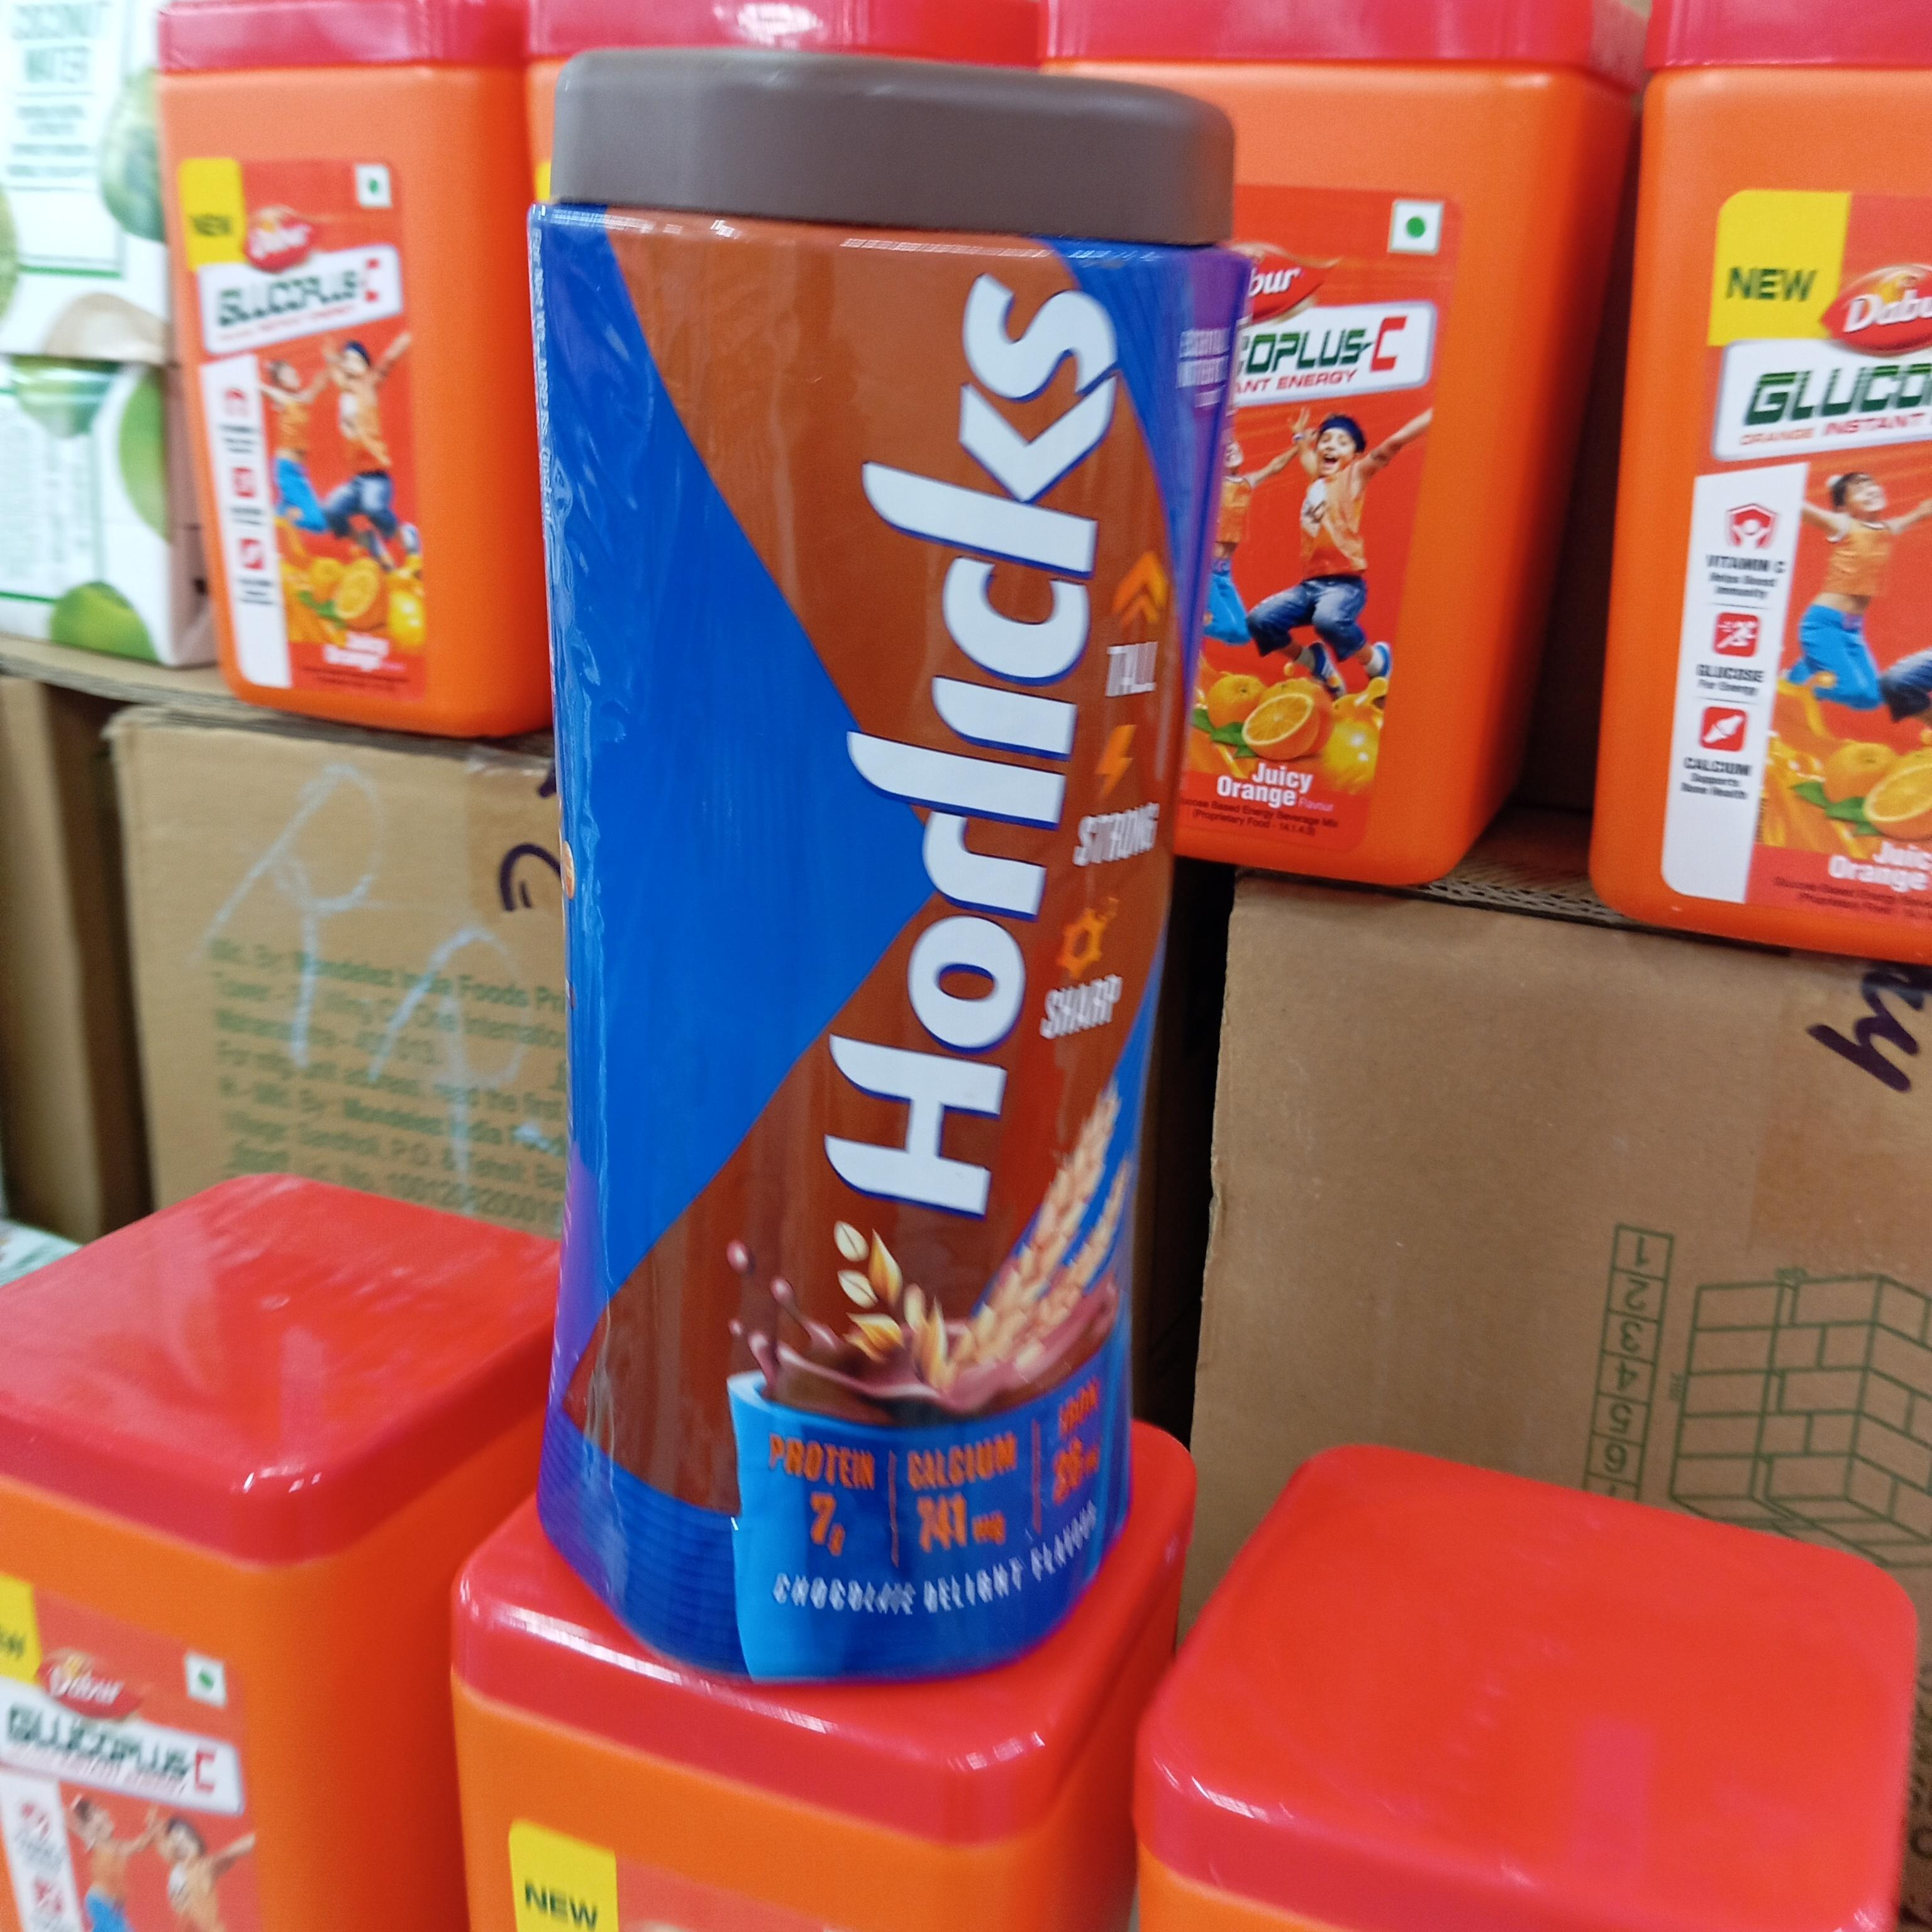HORLICK_CHOCOLATE_1_KG_JAR: (543, 60, 1240, 1670)
